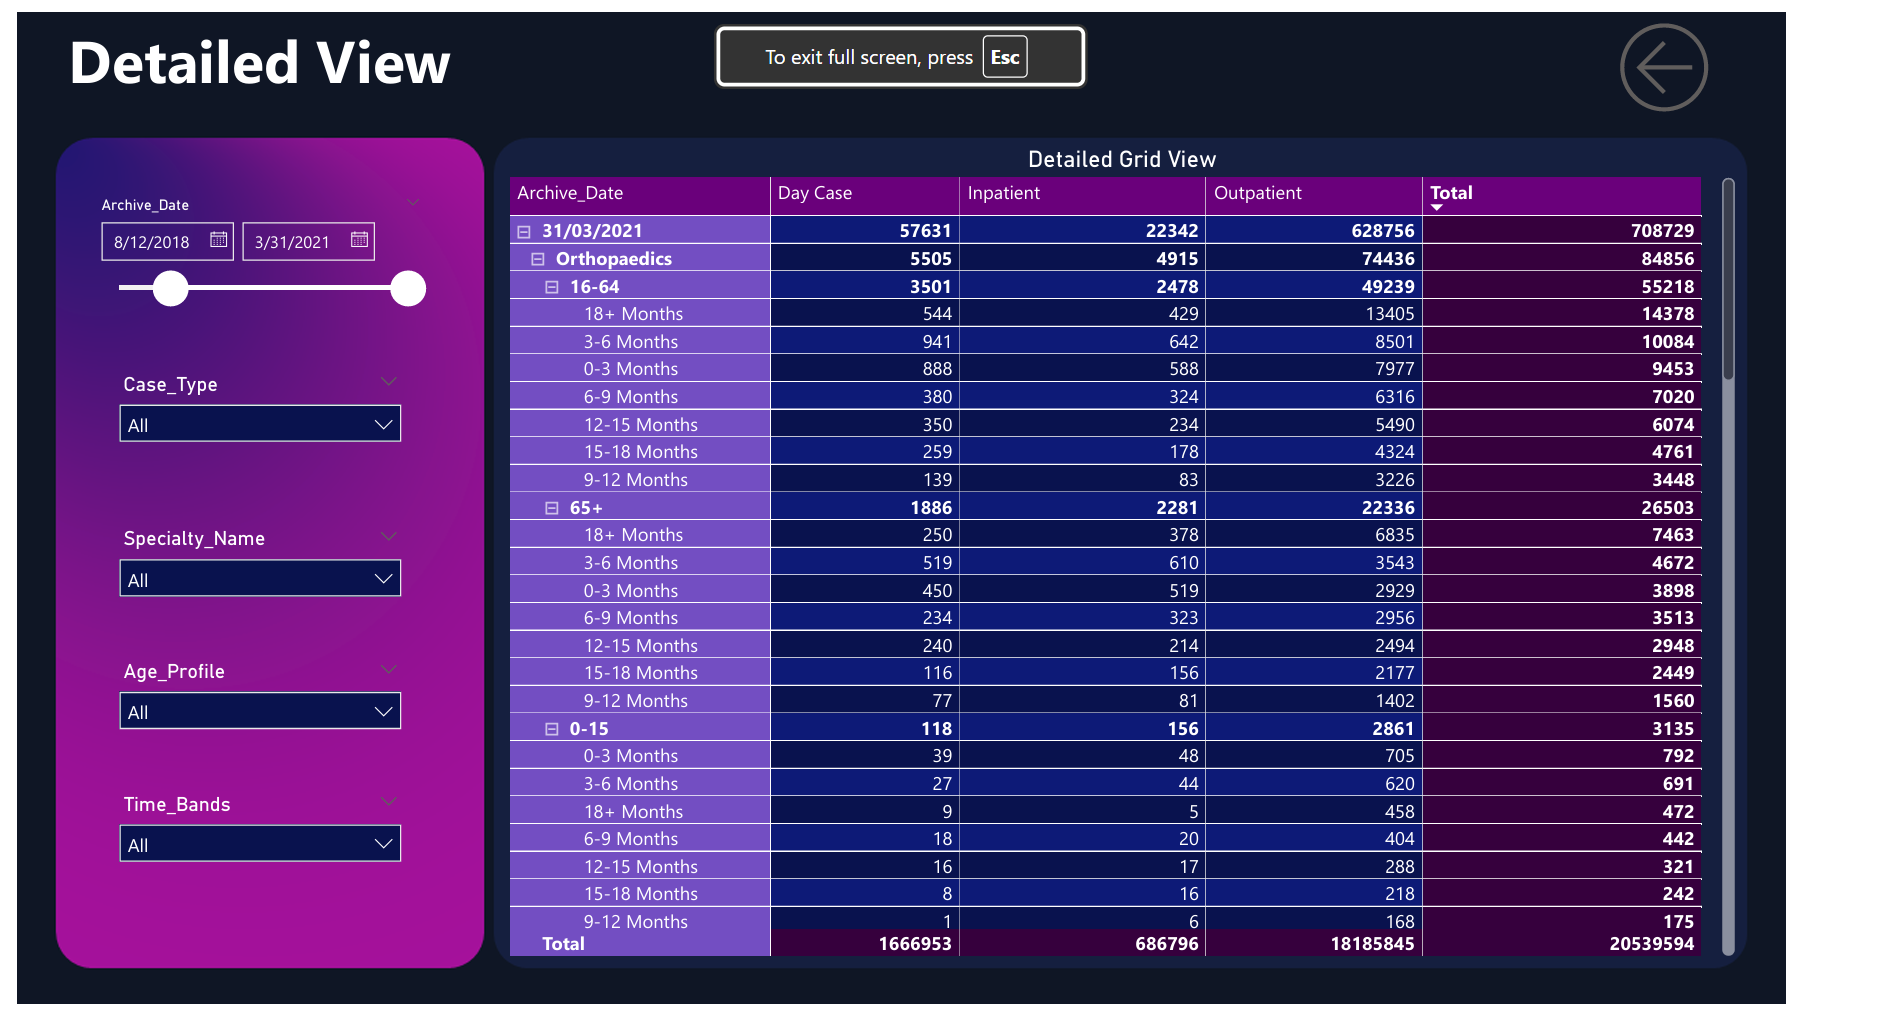

The page's visual inventory and layout, read from the dashboard file:
{"tool":"powerbi","page":{"name":"Detail","canvas":[1280,720],"ordinal":1},"visuals":[{"type":"slicer","fields":{"Values":["All_Data.Archive_Date"]},"box":[48,128,256,96],"z":0},{"type":"slicer","fields":{"Values":["All_Data.Case_Type"]},"box":[64,256,224,64],"z":1000},{"type":"slicer","fields":{"Values":["All_Data.Specialty_Name"]},"box":[64,368,224,64],"z":2000},{"type":"textbox","box":[32,0,304,80],"z":3000},{"type":"slicer","fields":{"Values":["All_Data.Age_Profile"]},"box":[64,464,224,64],"z":4000},{"type":"slicer","fields":{"Values":["All_Data.Time_Bands"]},"box":[64,560,224,64],"z":5000},{"type":"pivotTable","title":"Detailed Grid View","fields":{"Rows":["All_Data.Archive_Date","All_Data.Specialty_Name","All_Data.Age_Profile","All_Data.Time_Bands"],"Columns":["All_Data.Case_Type"],"Values":["Sum(All_Data.Total)"]},"box":[352,96,896,592],"z":6000},{"type":"actionButton","box":[1152,0,128,80],"z":7000}]}

Visuals, with their boxes on the page's 1280x720 design canvas (x1, y1, x2, y2). These are canvas units, not pixel positions in the 1902x1021 screenshot, which may show the page scaled, cropped or inside an application window:
slicer - All_Data.Archive_Date: bbox=[48, 128, 304, 224]
slicer - All_Data.Case_Type: bbox=[64, 256, 288, 320]
slicer - All_Data.Specialty_Name: bbox=[64, 368, 288, 432]
textbox: bbox=[32, 0, 336, 80]
slicer - All_Data.Age_Profile: bbox=[64, 464, 288, 528]
slicer - All_Data.Time_Bands: bbox=[64, 560, 288, 624]
"Detailed Grid View" pivotTable: bbox=[352, 96, 1248, 688]
actionButton: bbox=[1152, 0, 1280, 80]
